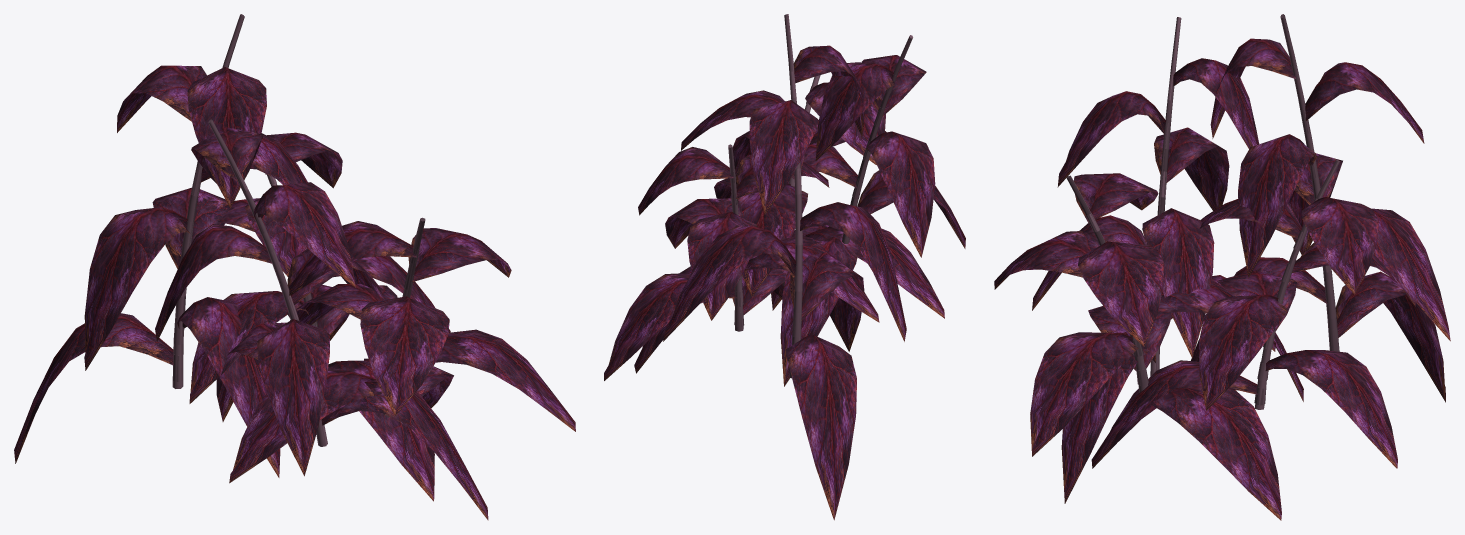
Rendered from broadgrass_05.glb.
3 views of the same model, side by side, from view 1: azimuth 30°, elevation 25°; view 2: azimuth 150°, elevation 25°; view 3: azimuth 270°, elevation 25° (orthographic). The views are drawn at different scales.
Visible parts, largest first — view 1: export; view 2: export; view 3: export.
Part boxes in pixels (box(x1,y1,x2,y2)): export: box(14, 14, 575, 520); export: box(604, 14, 965, 520); export: box(994, 14, 1450, 520).
Bounding box in the file's own units: 0.8552 × 1.12 × 1.03.
2 materials, 2 textured.
